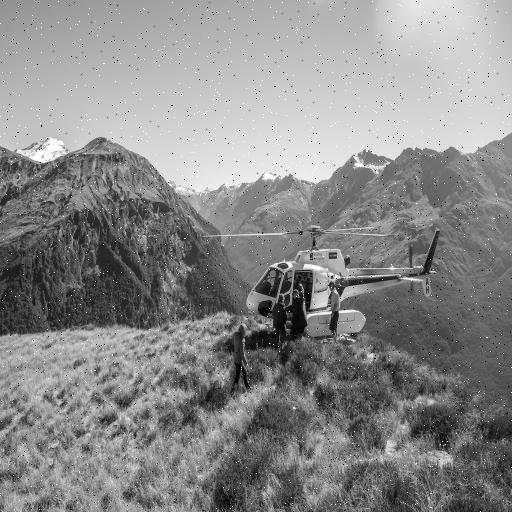helicopter: (204, 213, 448, 335)
